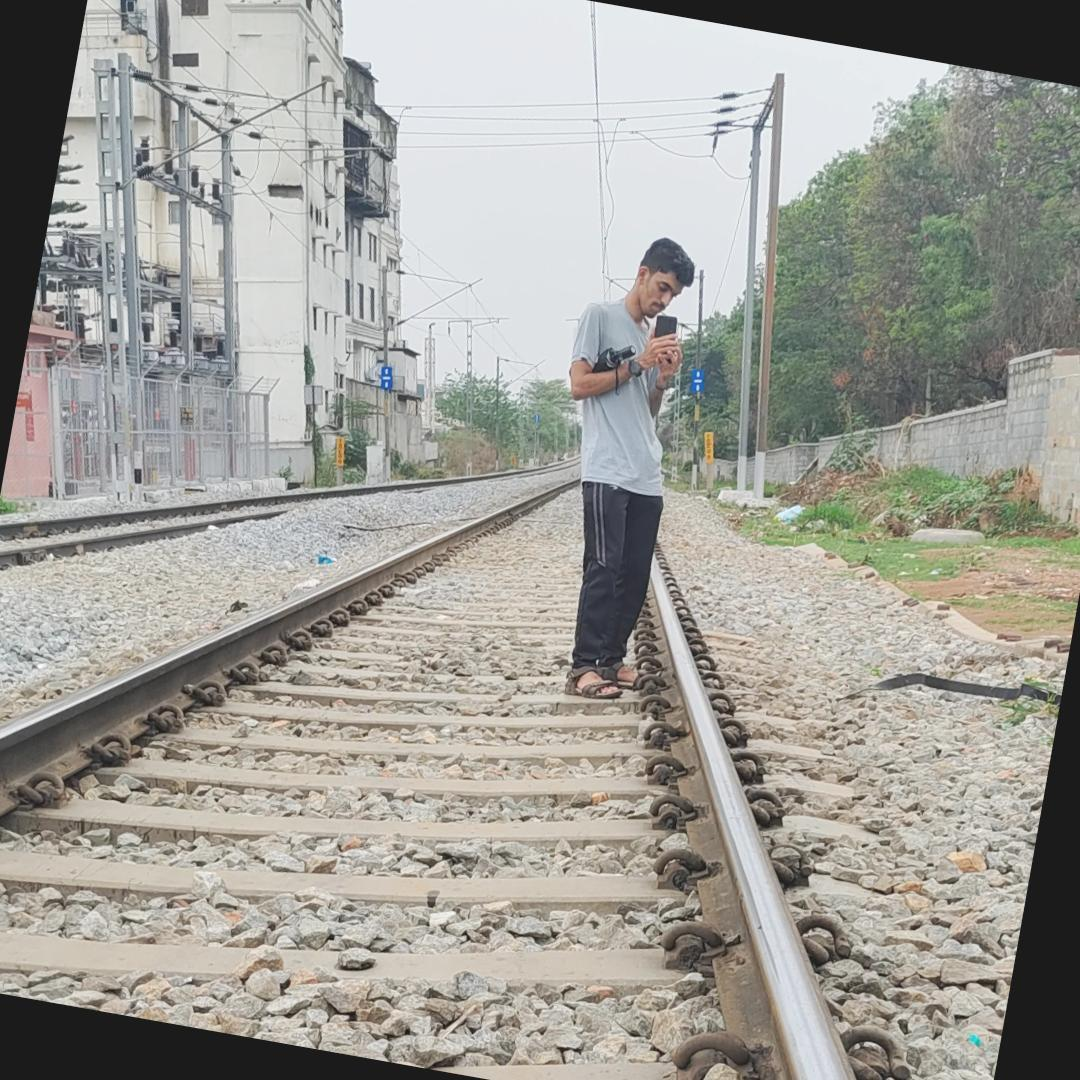standing: (486, 213, 739, 736)
track: (0, 440, 1001, 1080)
